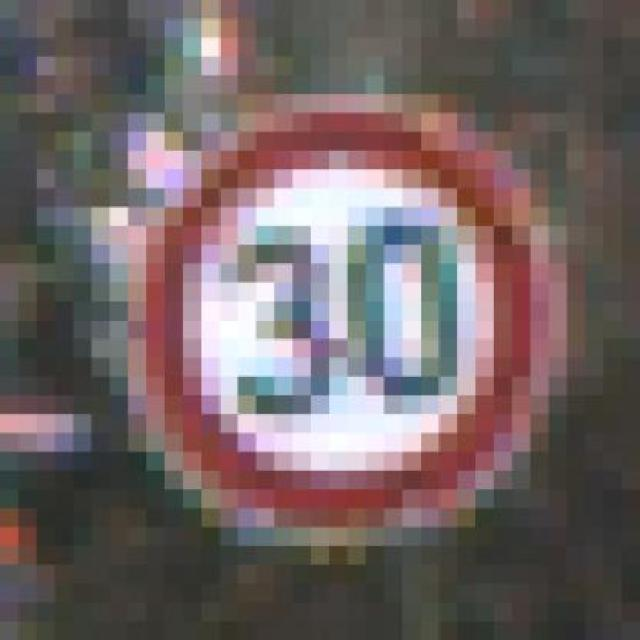Speed Limit 30 KMPh: (92, 76, 586, 546)
